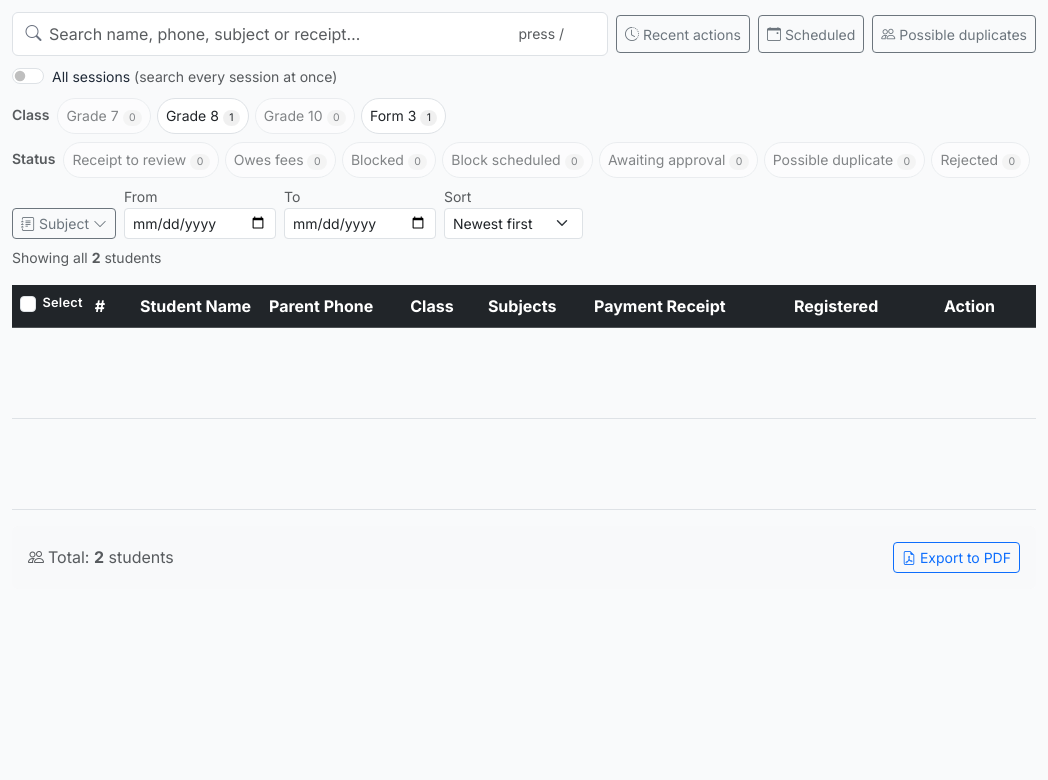
Scenario: All sessions › searches every session; each row says which session it is from
The image size is (1048, 780).
Click the checkbox labelled "All sessions (search every session at once)": (28, 76) [12,68,44,84]
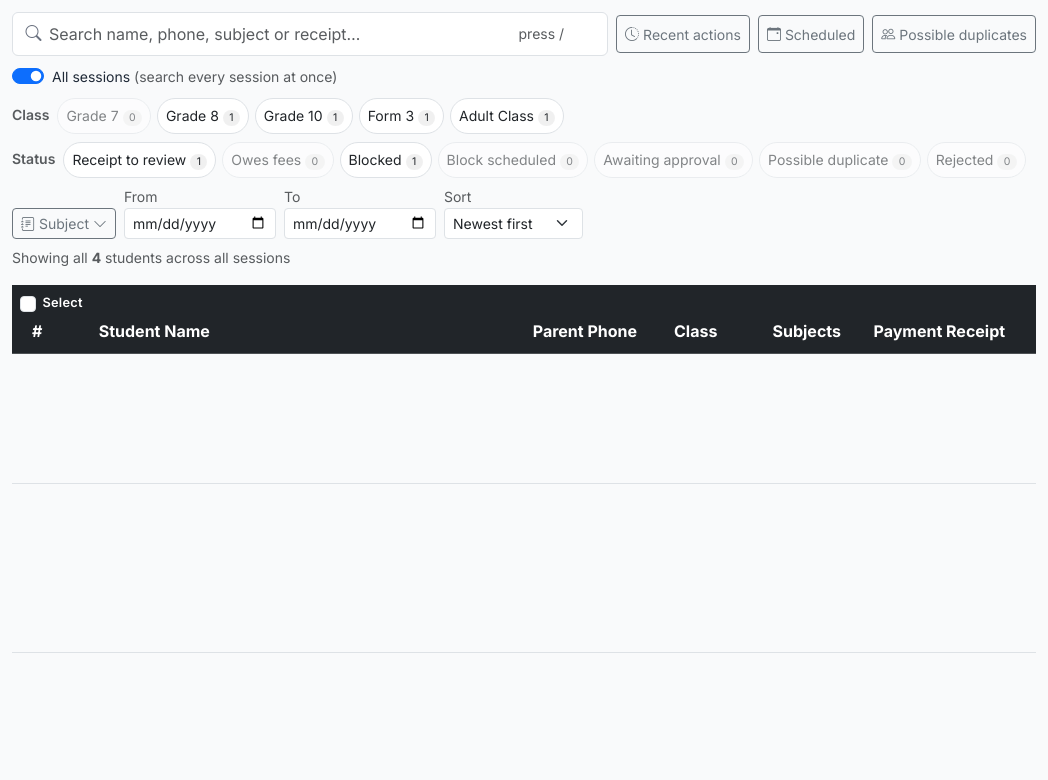
expect the element with test id "search-summary" shows "across all sessions": met, box [162,249,290,266]
